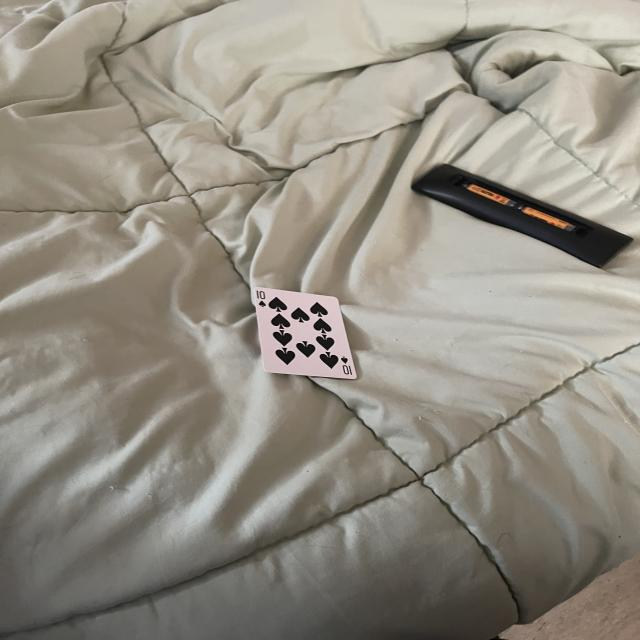10 of spades: (255, 288, 360, 380)
